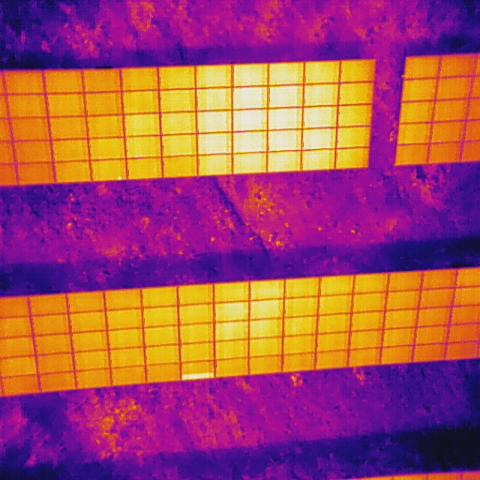fault: (182, 372, 214, 380), (116, 172, 125, 185)
